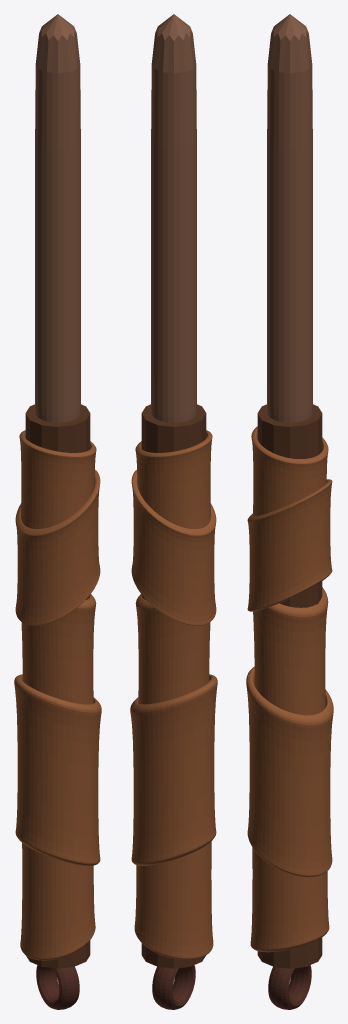
The model's file is Wand 311.glb.
3 views of the same model, side by side, from view 1: azimuth 30°, elevation 25°; view 2: azimuth 150°, elevation 25°; view 3: azimuth 330°, elevation 25° (orthographic).
Parts seen in each view (by area): view 1: GeneratedWand; view 2: GeneratedWand; view 3: GeneratedWand.
Boxes of the visible parts, bbox=[...] form: GeneratedWand: bbox=[14, 14, 101, 1009]; GeneratedWand: bbox=[130, 14, 217, 1009]; GeneratedWand: bbox=[246, 14, 333, 1009].
Size of the model in its own units: 0.0408 by 0.5107 by 0.0408.
